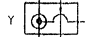Single Phase Tap-Off Unit: (22, 1, 81, 37)
